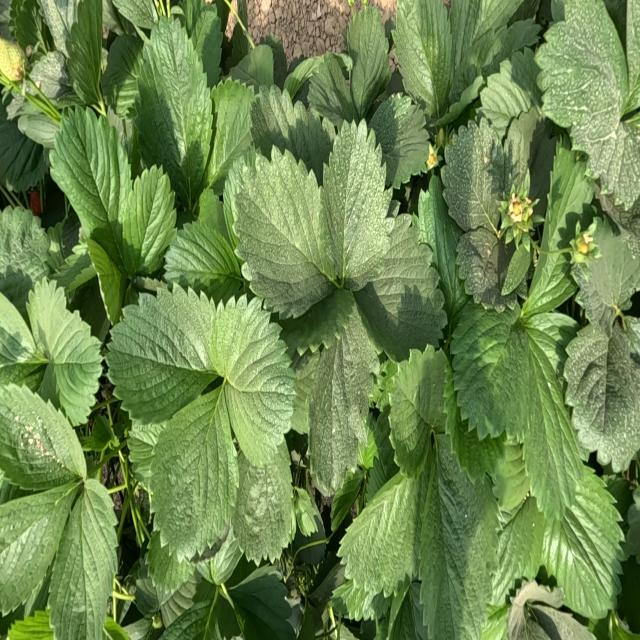Leaves: (224, 147, 330, 319), (419, 434, 498, 639), (150, 385, 239, 556), (107, 288, 215, 423), (210, 297, 295, 466), (536, 2, 629, 154), (137, 19, 212, 204), (358, 216, 443, 359), (323, 123, 391, 287), (49, 479, 118, 639), (565, 322, 639, 471), (309, 329, 375, 495), (541, 488, 623, 618), (29, 279, 102, 424), (531, 145, 593, 311), (1, 480, 78, 613), (340, 471, 420, 597), (50, 108, 126, 238), (451, 304, 524, 437), (1, 382, 85, 491), (164, 194, 241, 302), (387, 345, 449, 475), (523, 387, 582, 523), (252, 86, 331, 181), (232, 441, 293, 560), (393, 1, 454, 117), (417, 177, 466, 315), (441, 119, 501, 231), (579, 218, 639, 319), (121, 166, 175, 275), (369, 93, 429, 187), (492, 497, 544, 602), (1, 206, 50, 311), (206, 79, 255, 184), (480, 48, 541, 131), (586, 115, 639, 206), (348, 6, 391, 118), (229, 568, 295, 639), (291, 53, 356, 124), (0, 294, 45, 387), (456, 228, 509, 306), (67, 0, 105, 104), (503, 107, 541, 206), (84, 233, 124, 322), (0, 119, 47, 191), (148, 530, 193, 603), (102, 35, 142, 116), (128, 421, 162, 489), (231, 45, 273, 87), (7, 610, 55, 639), (112, 0, 158, 30)
Strawberries: (0, 39, 25, 82), (570, 230, 594, 263), (509, 193, 529, 222), (30, 192, 40, 215), (435, 128, 446, 148)
